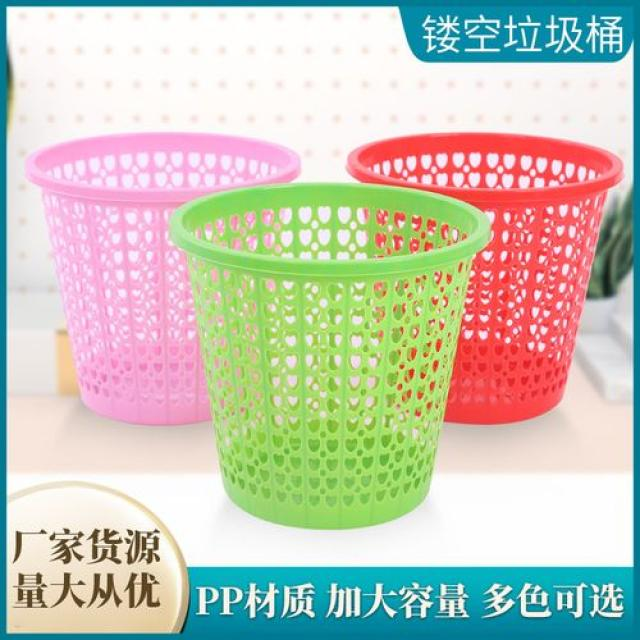dustbin: (173, 177, 497, 531), (342, 125, 630, 430), (24, 126, 304, 430)
